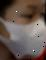with_mask: (1, 1, 46, 60)
